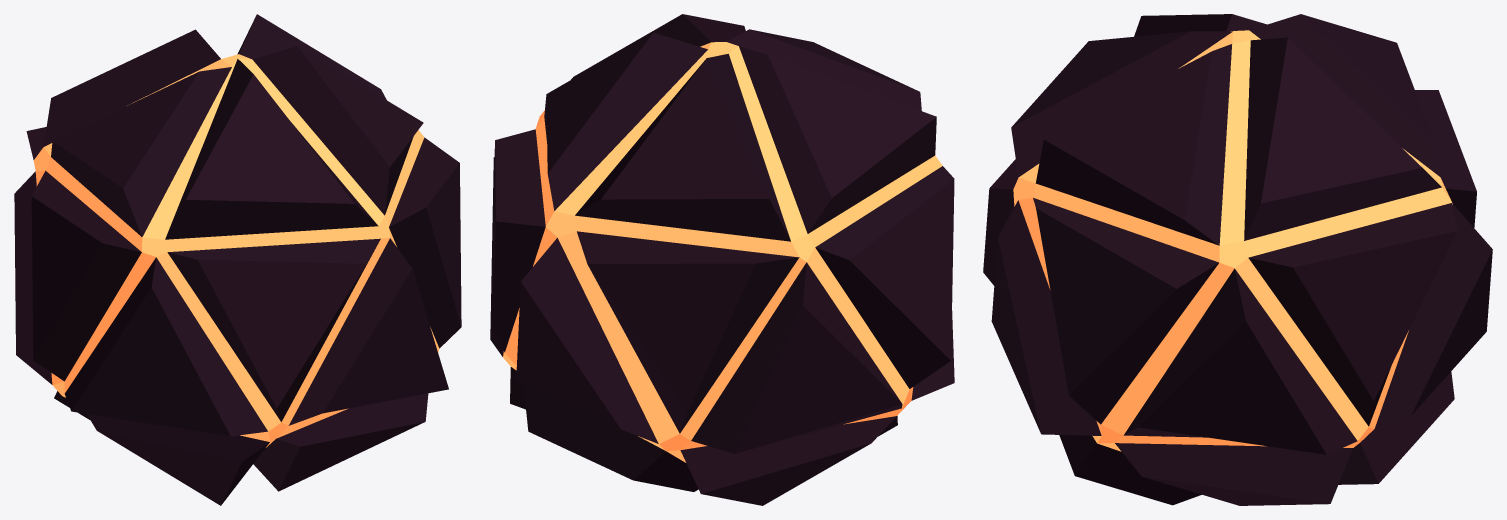
The model's file is rock.fbx.
3 renders of one model, left to right at view 1: azimuth 30°, elevation 25°; view 2: azimuth 150°, elevation 25°; view 3: azimuth 270°, elevation 25°, orthographic. The views are drawn at different scales.
Visible parts, largest first — view 1: Icosphere; view 2: Icosphere; view 3: Icosphere.
Part boxes in pixels (x1=…): Icosphere: x1=14, y1=14, x2=461, y2=505; Icosphere: x1=490, y1=14, x2=954, y2=505; Icosphere: x1=983, y1=14, x2=1492, y2=505.
Size of the model in its own units: 211 by 211 by 199.
